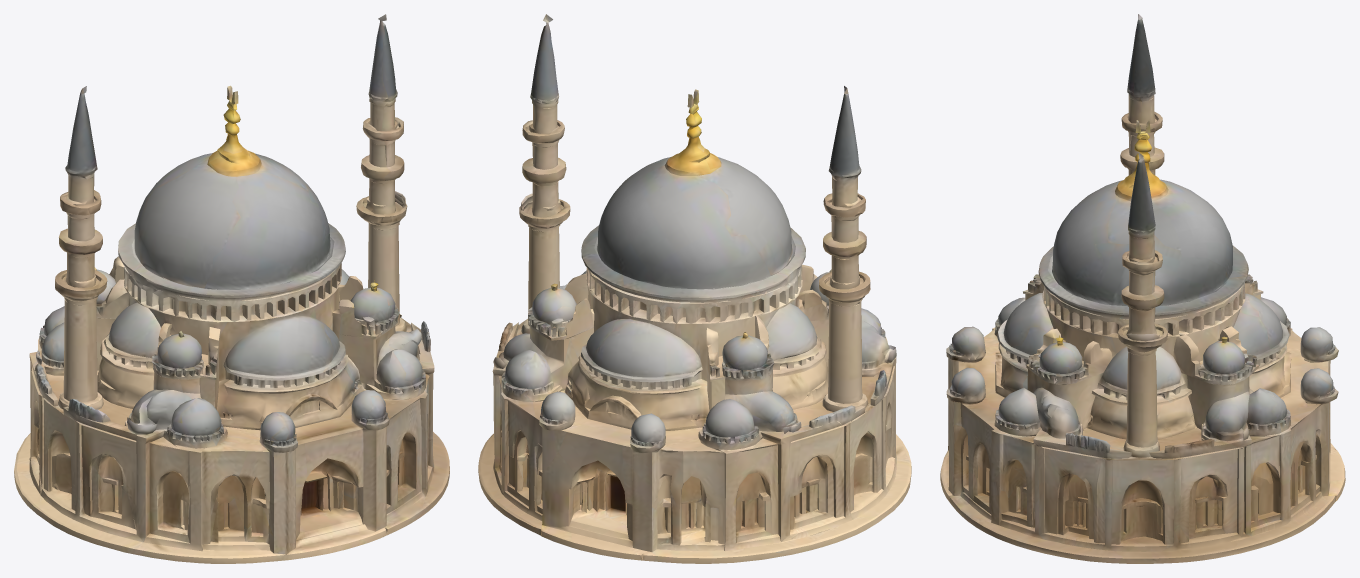
Rendered from base_basic_pbr.glb.
3 views of the same model, side by side, from view 1: azimuth 30°, elevation 25°; view 2: azimuth 150°, elevation 25°; view 3: azimuth 270°, elevation 25° (orthographic). The views are drawn at different scales.
Parts seen in each view (by area): view 1: model; view 2: model; view 3: model.
Part boxes in pixels (<box>): model: <box>14,14,449,563</box>; model: <box>478,14,911,563</box>; model: <box>940,14,1345,563</box>.
Size of the model in its own units: 1.77 by 1.9 by 1.75.
Materials: 1 (1 with a texture image).
